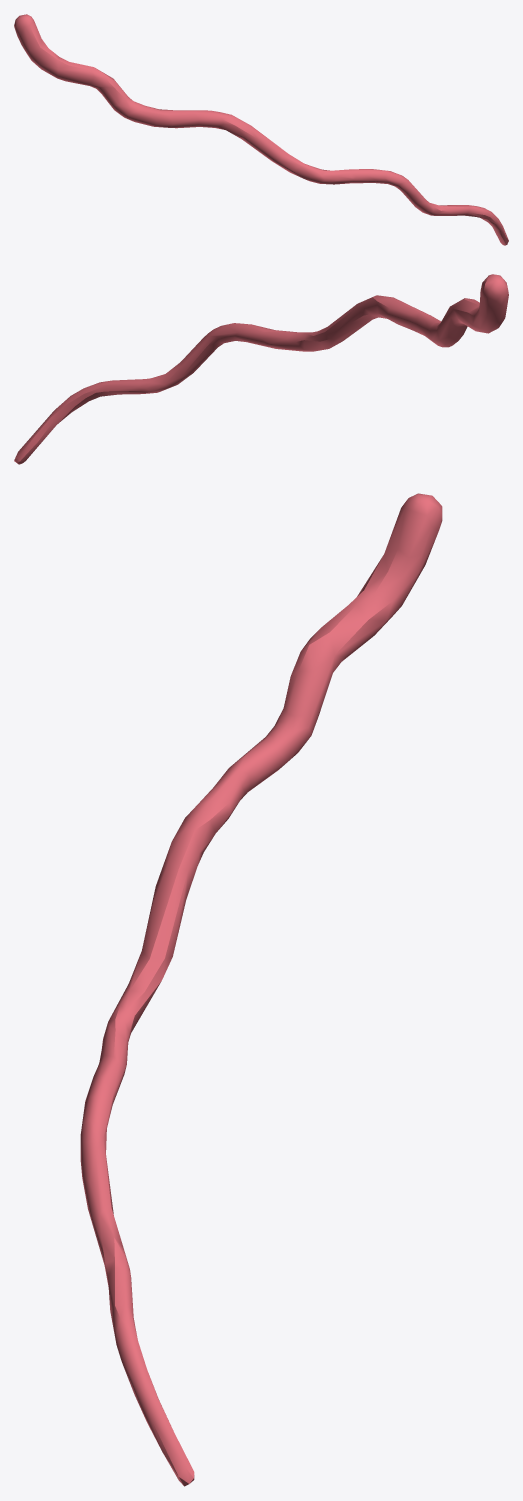
Rendered from fma3818_fj2672.glb.
The picture shows the model from 3 angles, top to bottom: view 1: azimuth 30°, elevation 25°; view 2: azimuth 150°, elevation 25°; view 3: azimuth 270°, elevation 25°; orthographic projection. The views are drawn at different scales.
Visible parts, largest first — view 1: FMA3818_FJ2672; view 2: FMA3818_FJ2672; view 3: FMA3818_FJ2672.
Boxes of the visible parts, x1,y1,x2,y2 form: FMA3818_FJ2672: (14,14,508,245); FMA3818_FJ2672: (14,274,508,464); FMA3818_FJ2672: (80,493,442,1486).
Size of the model in its own units: 0.0403 by 0.0257 by 0.0146.
